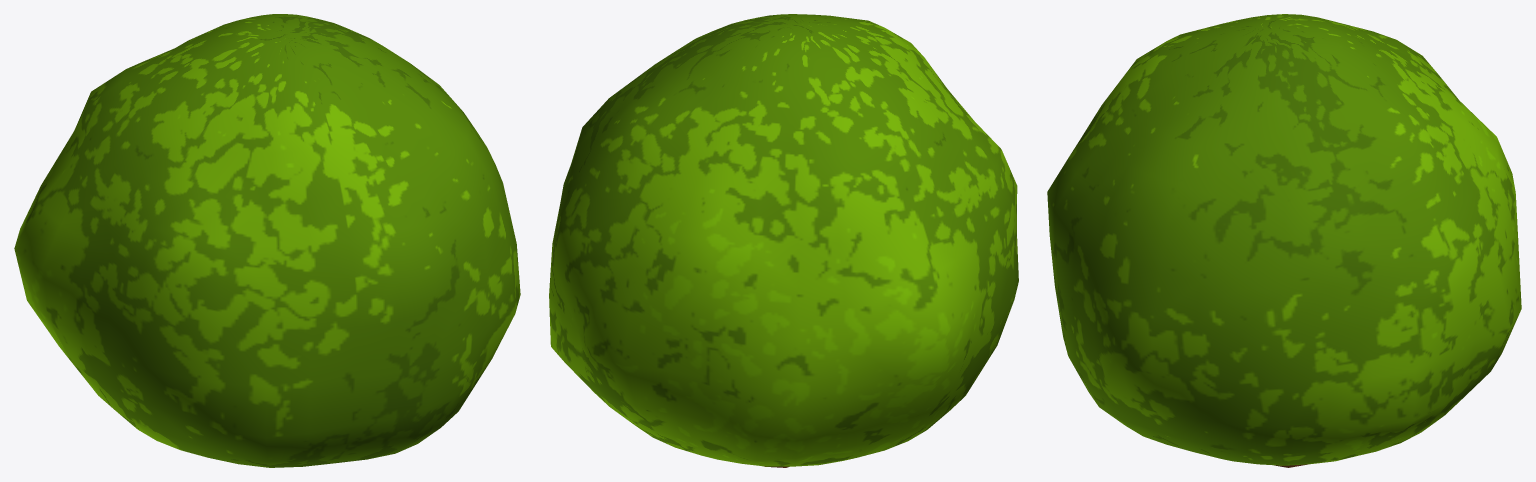
The model's file is bush2.glb.
3 views of the same model, side by side, from view 1: azimuth 30°, elevation 25°; view 2: azimuth 150°, elevation 25°; view 3: azimuth 270°, elevation 25° (orthographic).
Visible parts, largest first — view 1: Bush; view 2: Bush; view 3: Bush.
Part boxes in pixels (<box>): Bush: <box>14,14,520,467</box>; Bush: <box>549,14,1018,467</box>; Bush: <box>1047,14,1521,467</box>.
Size of the model in its own units: 2.8 by 2.73 by 2.76.
2 materials, 2 textured.
